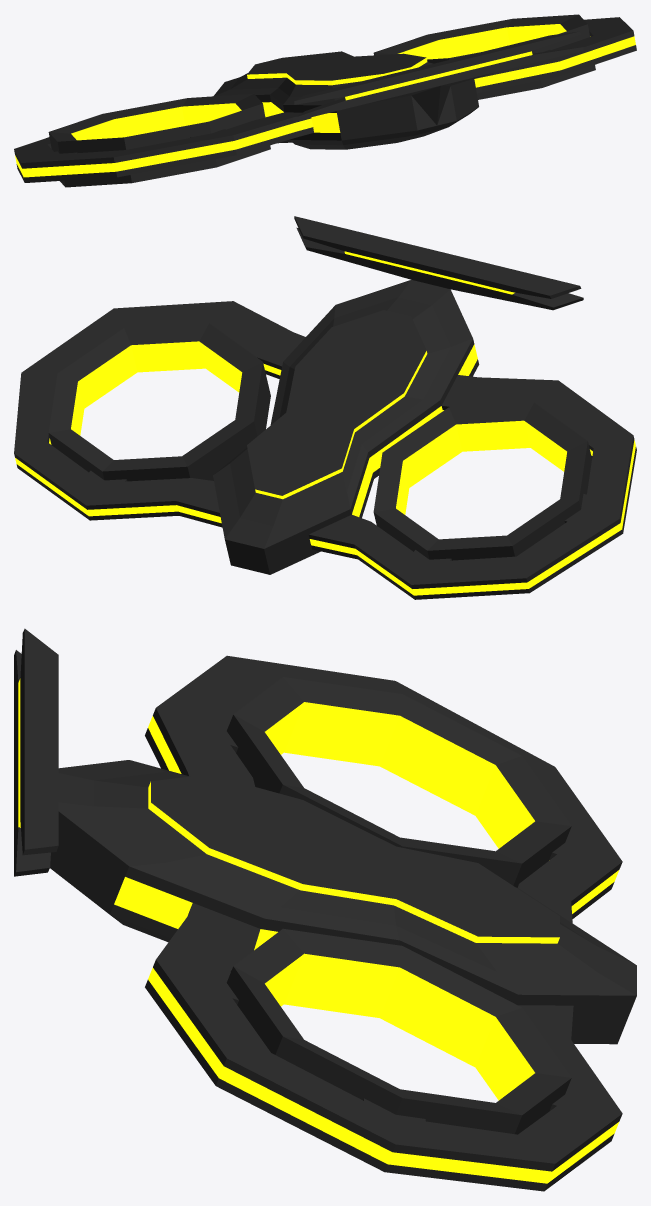
The model's file is DroneYellow.glb.
3 views of the same model, one above another, from view 1: azimuth 30°, elevation 25°; view 2: azimuth 150°, elevation 25°; view 3: azimuth 270°, elevation 25° (orthographic). The views are drawn at different scales.
Parts seen in each view (by area): view 1: Object_6, Object_4, Object_7, Object_5; view 2: Object_6, Object_4, Object_5, Object_7; view 3: Object_6, Object_4, Object_5, Object_7.
Boxes of the visible parts, x1,y1,x2,y2 form: Object_6: (14, 17, 636, 182); Object_4: (48, 14, 595, 187); Object_7: (15, 36, 635, 177); Object_5: (71, 24, 566, 140); Object_6: (14, 216, 636, 599); Object_4: (48, 323, 591, 560); Object_5: (71, 341, 566, 514); Object_7: (15, 251, 635, 595); Object_6: (14, 628, 636, 1191); Object_4: (226, 677, 571, 1134); Object_5: (265, 702, 534, 1100); Object_7: (18, 678, 618, 1183).
Size of the model in its own units: 1.81 by 0.5281 by 1.03.
